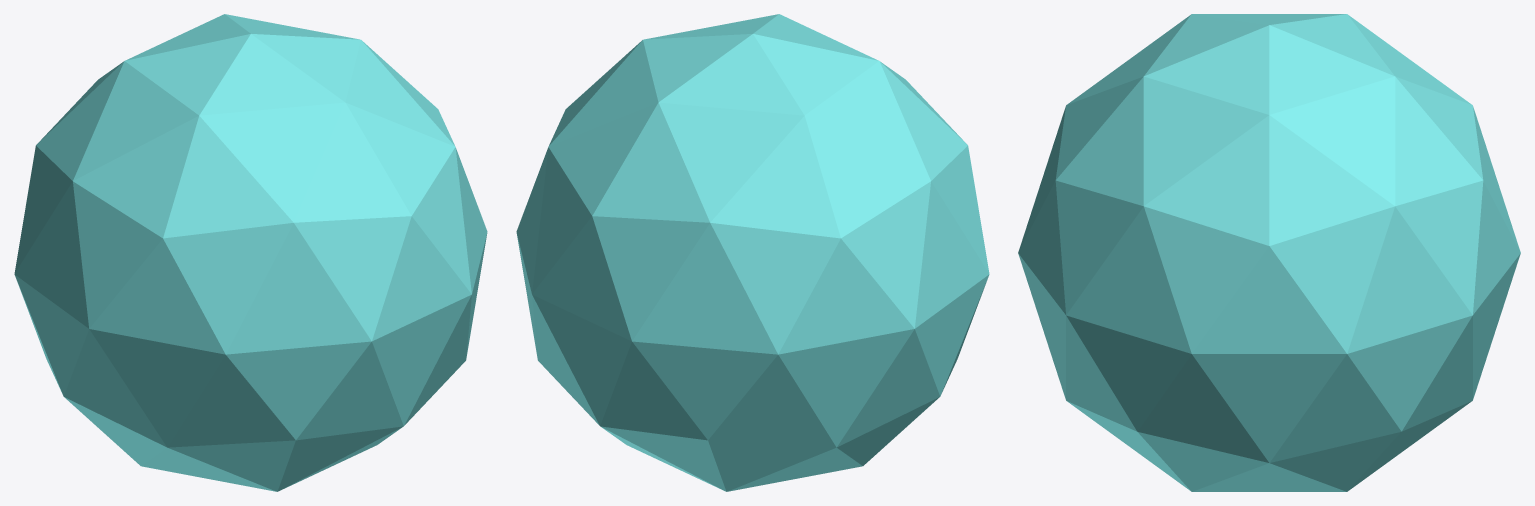
File: Uranus.fbx
3 renders of one model, left to right at view 1: azimuth 30°, elevation 25°; view 2: azimuth 150°, elevation 25°; view 3: azimuth 270°, elevation 25°, orthographic. The views are drawn at different scales.
Visible parts, largest first — view 1: Uranus; view 2: Uranus; view 3: Uranus.
Part boxes in pixels (left/top/right/bottom): Uranus: left=14, top=14, right=487, bottom=491; Uranus: left=516, top=14, right=989, bottom=491; Uranus: left=1018, top=14, right=1520, bottom=491.
Bounding box in the file's own units: 295 × 310 × 310.
